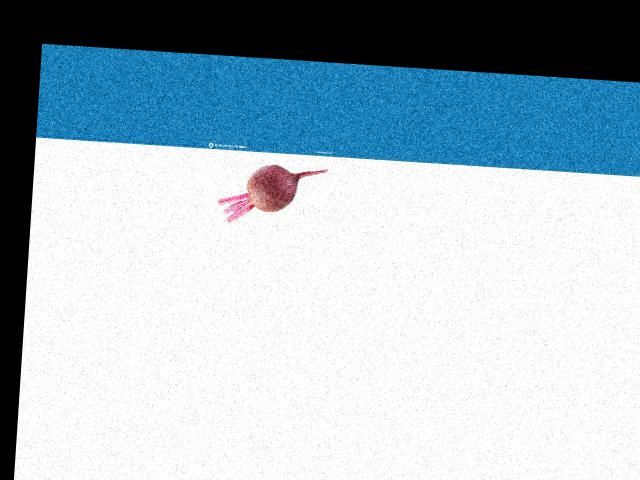beet: (217, 162, 327, 227)
